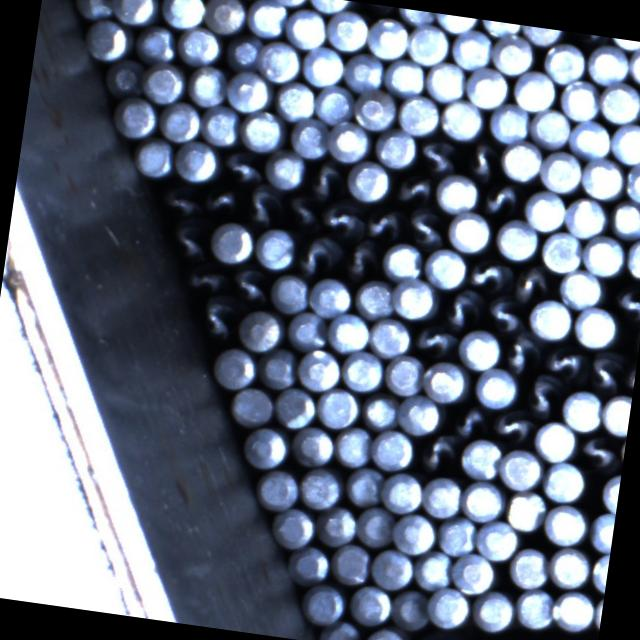tool: (238, 306, 288, 354), (421, 357, 472, 404), (572, 302, 621, 350), (296, 344, 344, 392), (345, 158, 393, 206), (391, 510, 439, 558), (526, 294, 574, 342), (172, 138, 221, 185), (208, 219, 256, 266), (84, 15, 132, 62), (560, 193, 608, 240), (494, 216, 542, 263), (460, 476, 508, 523), (240, 108, 288, 155), (446, 208, 494, 255), (542, 501, 591, 547), (224, 68, 273, 114), (256, 37, 303, 84), (112, 93, 160, 139), (434, 170, 482, 216), (308, 273, 356, 319), (474, 518, 522, 564), (314, 386, 362, 432), (456, 325, 504, 371), (490, 32, 538, 78), (580, 156, 628, 202), (324, 118, 372, 164), (390, 276, 438, 322), (243, 424, 291, 470), (581, 232, 628, 278), (511, 68, 558, 114), (426, 586, 473, 632), (438, 98, 485, 144), (300, 580, 347, 626), (156, 98, 203, 144), (538, 148, 584, 195), (370, 428, 417, 474), (531, 418, 578, 464), (289, 424, 336, 470), (270, 504, 317, 550), (449, 550, 496, 596), (298, 466, 345, 512), (458, 434, 505, 480), (212, 344, 259, 390), (496, 447, 544, 492), (348, 582, 396, 627), (540, 458, 588, 503), (541, 40, 587, 86), (367, 16, 413, 62), (422, 244, 468, 290), (521, 186, 567, 232), (396, 94, 442, 140), (324, 7, 370, 53), (499, 138, 545, 184), (538, 228, 584, 274), (368, 546, 414, 592), (272, 386, 318, 432), (551, 587, 597, 633), (546, 544, 592, 590), (405, 21, 452, 66), (558, 266, 606, 310), (464, 66, 512, 110), (472, 364, 520, 408), (326, 311, 372, 356), (558, 77, 604, 122), (448, 27, 494, 72), (419, 474, 464, 520), (380, 470, 425, 516), (255, 225, 300, 271), (398, 391, 444, 436), (329, 542, 374, 588), (471, 589, 516, 635), (584, 42, 630, 87), (486, 101, 532, 146), (257, 466, 302, 512), (133, 134, 178, 180), (312, 503, 358, 548), (142, 61, 188, 106), (299, 44, 346, 88), (133, 23, 180, 67), (367, 314, 412, 359), (264, 147, 309, 192), (197, 103, 242, 148), (560, 388, 604, 434), (508, 544, 552, 590), (424, 58, 468, 104), (506, 488, 550, 534), (339, 348, 385, 392), (528, 107, 574, 151), (342, 50, 388, 94), (382, 351, 426, 397), (287, 542, 333, 586), (354, 86, 400, 130), (597, 80, 640, 127), (286, 5, 330, 50), (186, 63, 230, 108), (268, 269, 312, 314), (274, 78, 319, 122), (374, 126, 419, 170), (352, 276, 397, 320), (288, 116, 333, 160), (178, 25, 224, 68), (390, 587, 433, 633), (314, 82, 358, 126), (436, 514, 480, 558), (344, 464, 388, 508), (257, 346, 300, 391), (514, 584, 556, 630), (570, 118, 614, 161), (411, 548, 454, 592), (380, 238, 424, 281), (230, 384, 275, 426), (384, 56, 428, 98), (354, 505, 396, 549), (332, 424, 372, 469), (358, 391, 400, 433), (246, 0, 290, 40), (202, 0, 248, 36), (106, 56, 144, 96), (608, 120, 640, 166), (600, 392, 632, 437), (160, 0, 208, 30), (609, 198, 640, 240), (112, 0, 160, 27), (589, 509, 616, 553), (319, 617, 363, 640), (600, 471, 622, 514), (75, 0, 118, 22), (436, 13, 480, 34), (520, 25, 562, 46), (590, 550, 610, 592), (479, 20, 521, 39), (396, 8, 436, 27), (363, 624, 410, 640), (624, 159, 640, 204), (307, 0, 353, 15), (625, 236, 640, 279), (626, 44, 640, 88), (592, 591, 604, 633), (608, 38, 640, 52), (266, 0, 309, 8)
tool_b: (192, 291, 242, 343), (294, 230, 344, 278), (518, 370, 566, 420), (439, 284, 487, 332), (240, 180, 287, 228), (316, 195, 366, 240), (540, 340, 588, 386), (508, 260, 556, 306), (410, 318, 460, 361), (156, 178, 206, 220), (402, 204, 448, 249), (227, 263, 273, 308), (168, 216, 212, 262), (500, 329, 544, 375), (339, 236, 383, 282), (482, 292, 528, 336), (286, 310, 332, 354), (466, 252, 514, 294), (586, 348, 628, 396), (414, 134, 462, 176), (417, 431, 461, 476), (576, 431, 622, 474), (478, 177, 524, 220), (181, 256, 230, 296), (304, 156, 347, 201), (218, 146, 265, 187), (391, 168, 436, 210), (489, 405, 535, 446), (282, 190, 324, 232), (362, 203, 404, 244), (448, 400, 491, 440), (464, 140, 503, 182), (201, 181, 242, 219), (610, 282, 640, 325), (407, 628, 467, 640), (567, 32, 610, 46)
